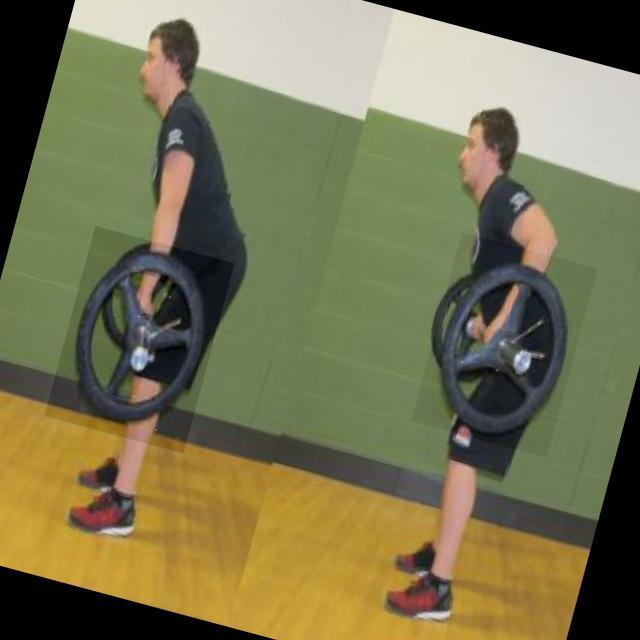barbell: (45, 227, 235, 455), (413, 233, 599, 459)
